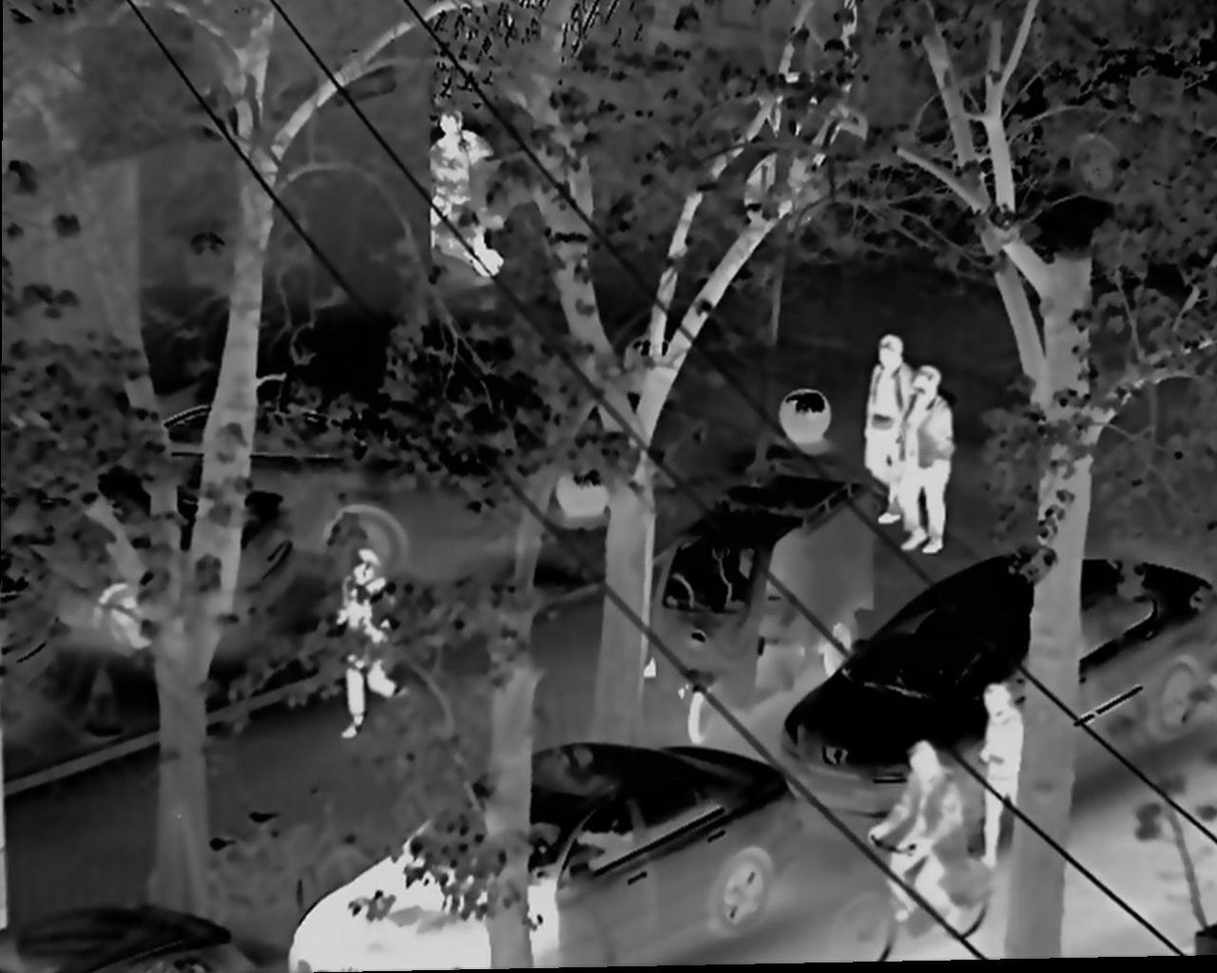person: (864, 726, 963, 937), (321, 545, 413, 751), (417, 98, 506, 293), (857, 329, 920, 524), (978, 680, 1037, 882), (895, 361, 953, 560)
